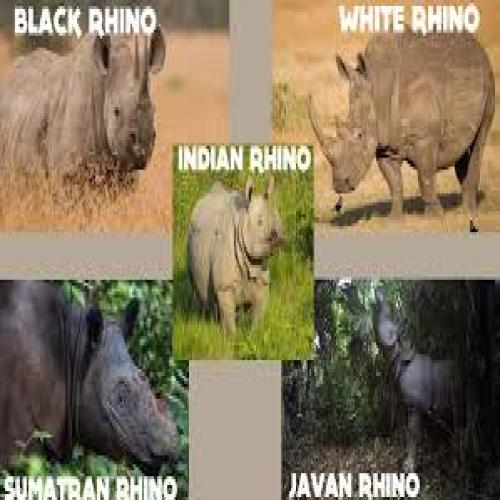rhino-endangered: (302, 10, 496, 222), (4, 279, 182, 478), (5, 27, 168, 187), (364, 284, 486, 477), (185, 174, 281, 336)
